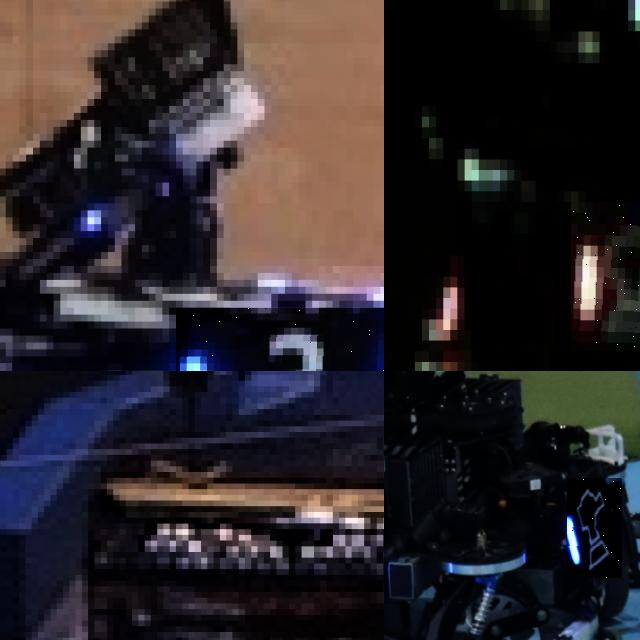B3: (176, 308, 384, 371)
Bs: (568, 478, 624, 578)
Rs: (571, 201, 640, 351)
